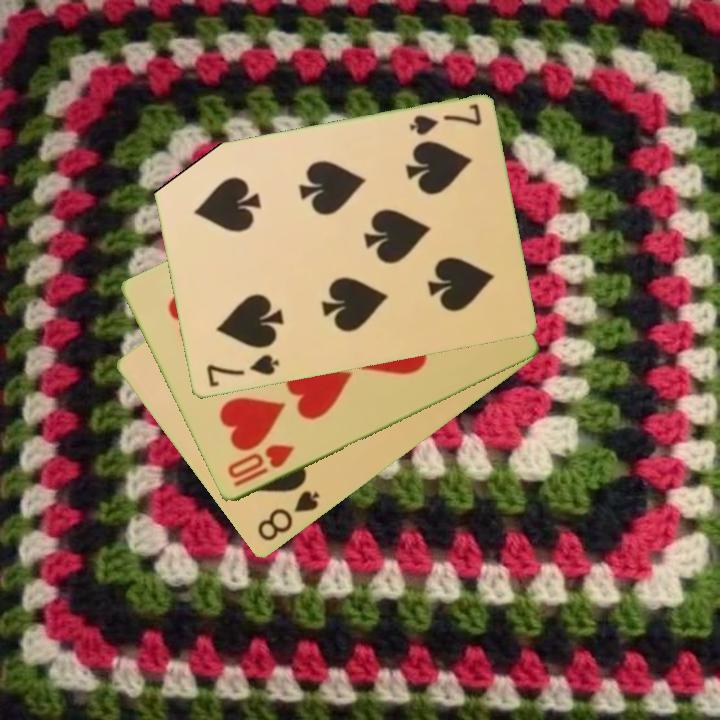10h: (224, 441, 298, 491)
7s: (202, 351, 282, 391), (405, 100, 484, 139)
8s: (253, 487, 323, 545)
